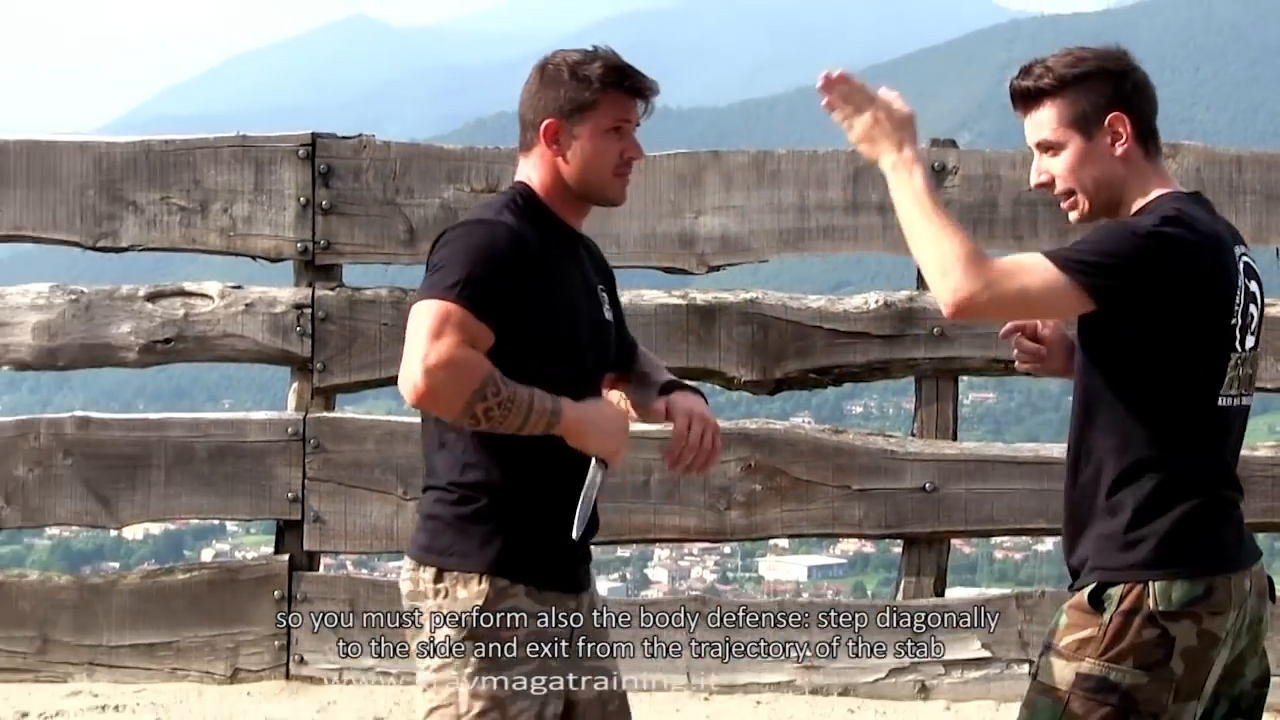knife: (561, 395, 630, 546)
